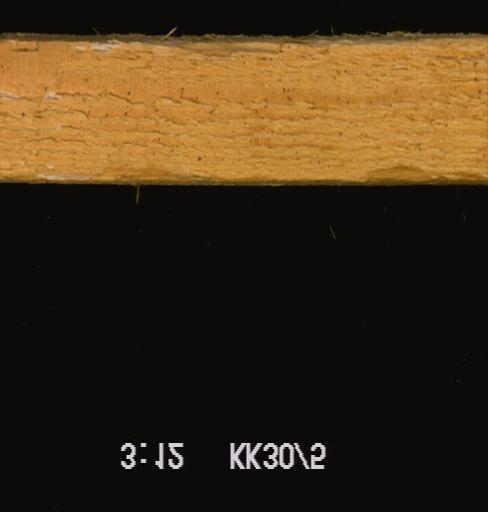wave: (121, 28, 355, 52), (60, 168, 281, 184), (355, 164, 486, 184)
